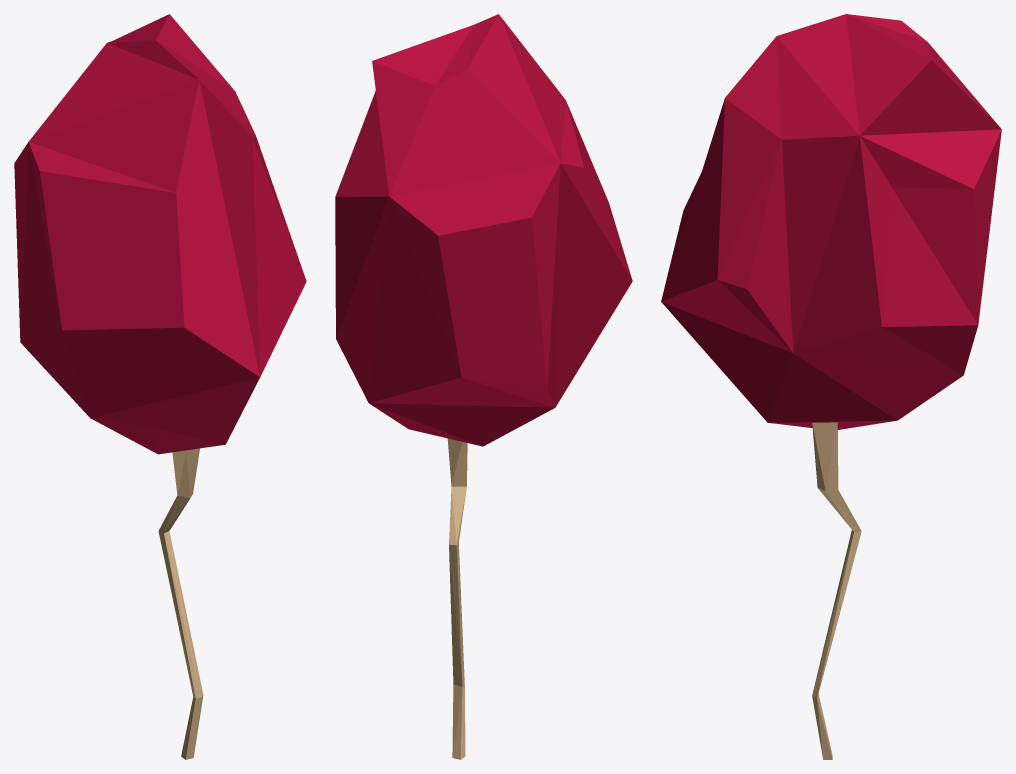
File: world_3_tree_small.dae
3 renders of one model, left to right at view 1: azimuth 30°, elevation 25°; view 2: azimuth 150°, elevation 25°; view 3: azimuth 270°, elevation 25°, orthographic. The views are drawn at different scales.
Visible parts, largest first — view 1: small_cherry_leaves, small_cherry_base; view 2: small_cherry_leaves, small_cherry_base; view 3: small_cherry_leaves, small_cherry_base.
Boxes of the visible parts, x1,y1,x2,y2 form: small_cherry_leaves: (14,14,306,454); small_cherry_base: (158,448,203,759); small_cherry_leaves: (335,14,632,446); small_cherry_base: (447,438,467,759); small_cherry_leaves: (661,14,1001,429); small_cherry_base: (812,422,861,759).
Size of the model in its own units: 1.13 by 1.38 by 3.27.
